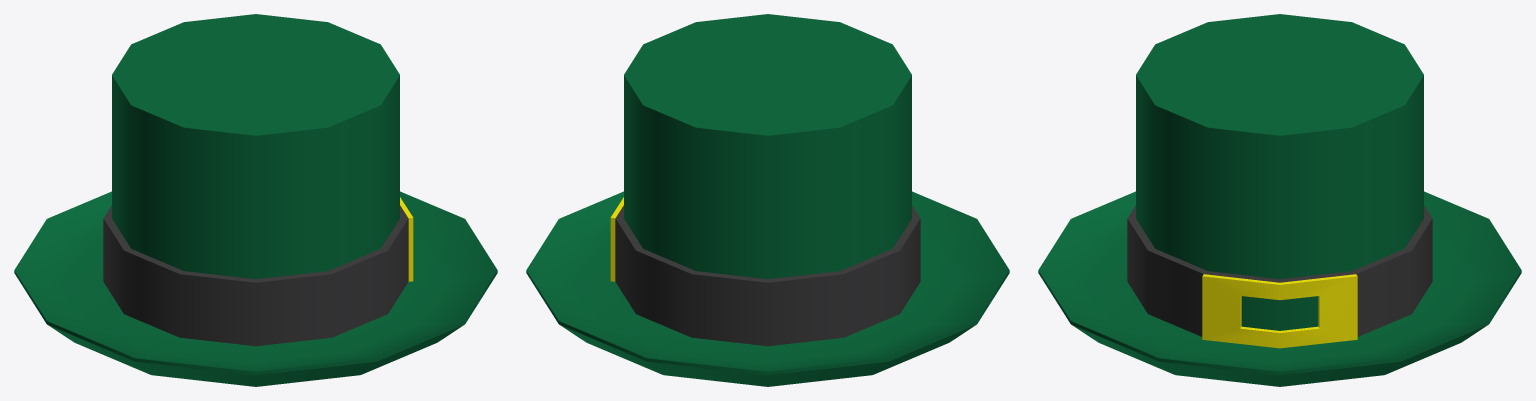
File: MM_Hat_StP.fbx
3 views of the same model, side by side, from view 1: azimuth 30°, elevation 25°; view 2: azimuth 150°, elevation 25°; view 3: azimuth 270°, elevation 25° (orthographic).
Parts seen in each view (by area): view 1: MM_Hat_StP; view 2: MM_Hat_StP; view 3: MM_Hat_StP.
Boxes of the visible parts, bbox=[...] form: MM_Hat_StP: bbox=[14, 14, 497, 386]; MM_Hat_StP: bbox=[526, 14, 1009, 386]; MM_Hat_StP: bbox=[1038, 14, 1521, 386].
Size of the model in its own units: 54.19 by 27.67 by 54.19.
